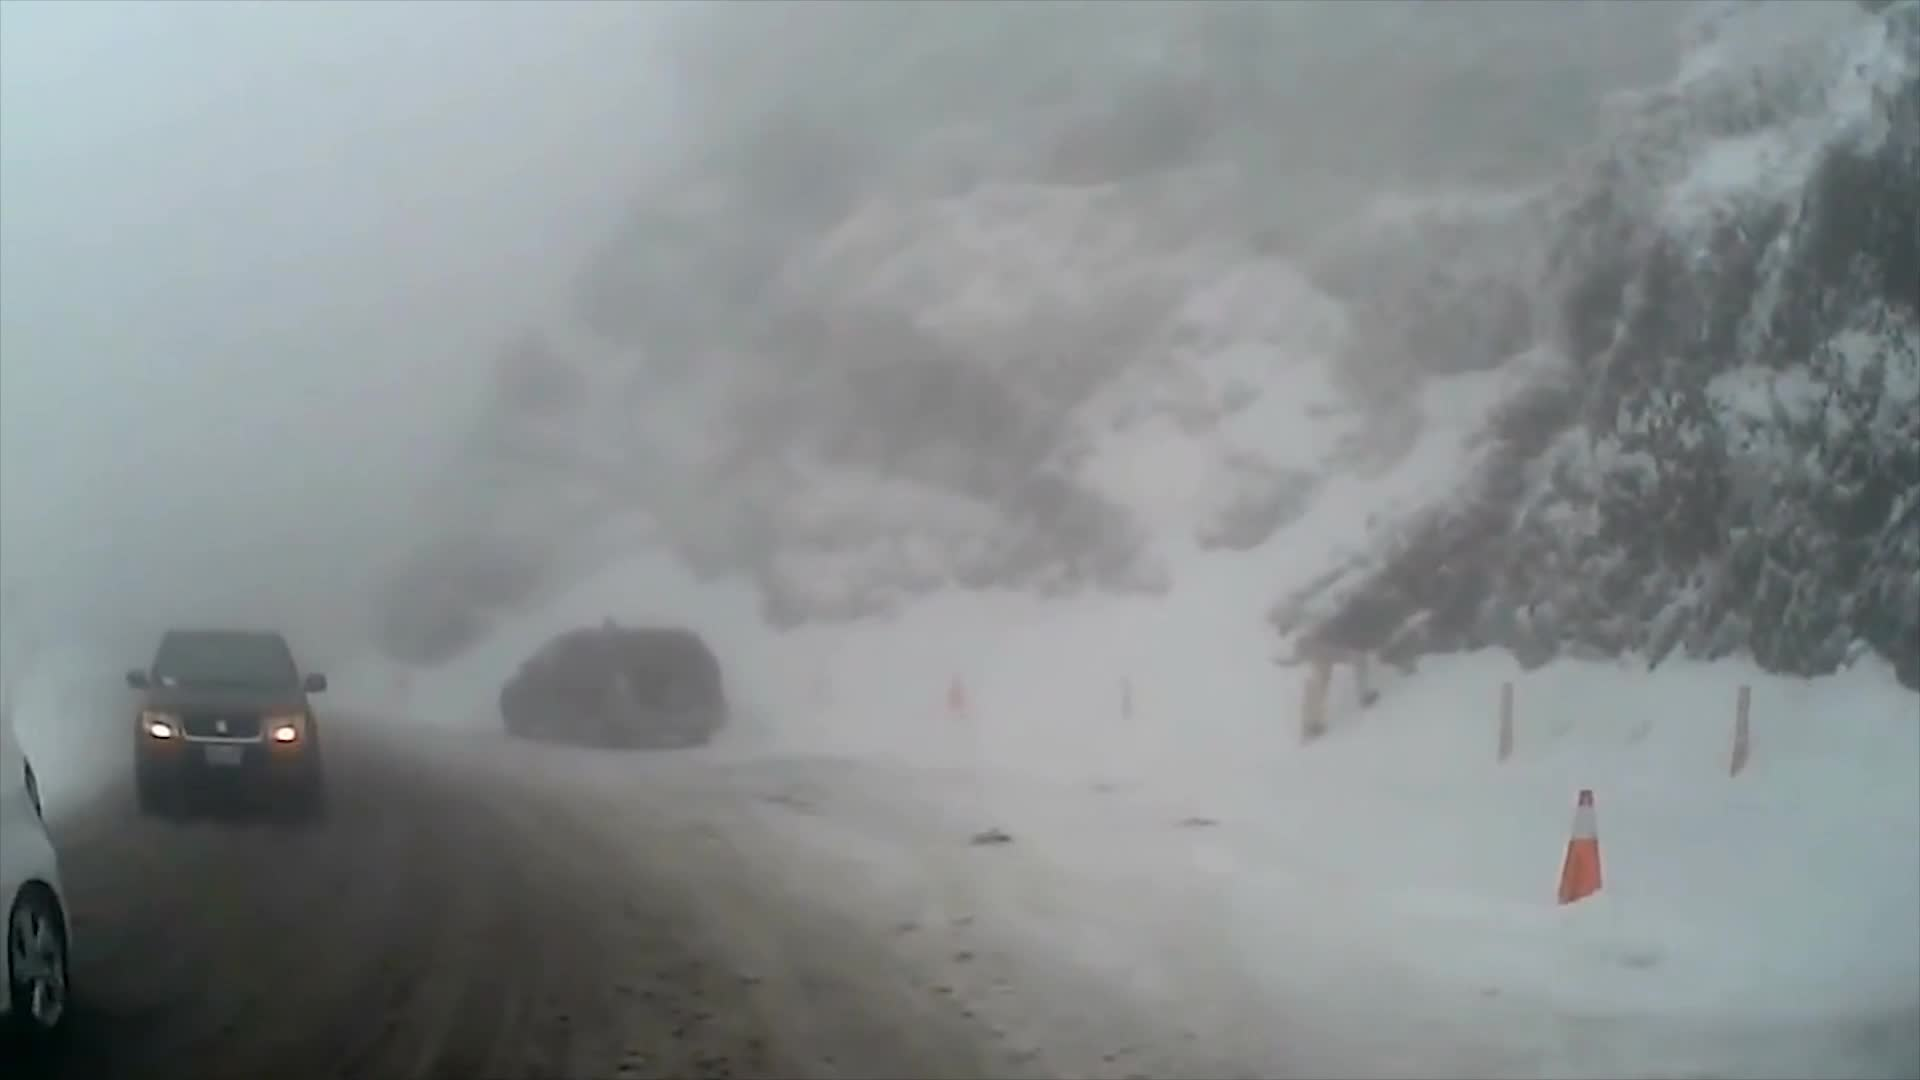vehicle: (121, 625, 328, 822), (0, 684, 79, 1054), (497, 624, 723, 752)
